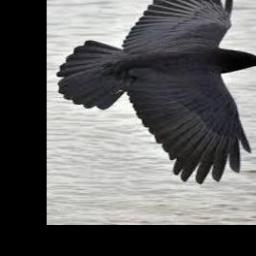Crow: (56, 0, 256, 183)
